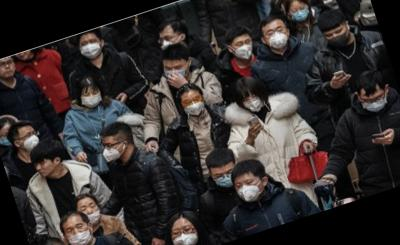mask_weared_incorrect: (77, 200, 104, 228)
with_mask: (232, 174, 268, 207), (64, 218, 97, 245), (180, 92, 209, 121), (262, 24, 291, 53), (162, 59, 192, 87), (359, 90, 392, 115), (168, 221, 202, 245), (211, 164, 241, 191), (323, 25, 352, 51), (231, 36, 257, 63), (78, 36, 104, 62), (156, 30, 184, 54), (241, 91, 265, 116), (78, 88, 104, 111), (99, 138, 122, 164), (20, 127, 42, 153), (289, 2, 311, 25)
without_mask: (34, 157, 56, 179)
